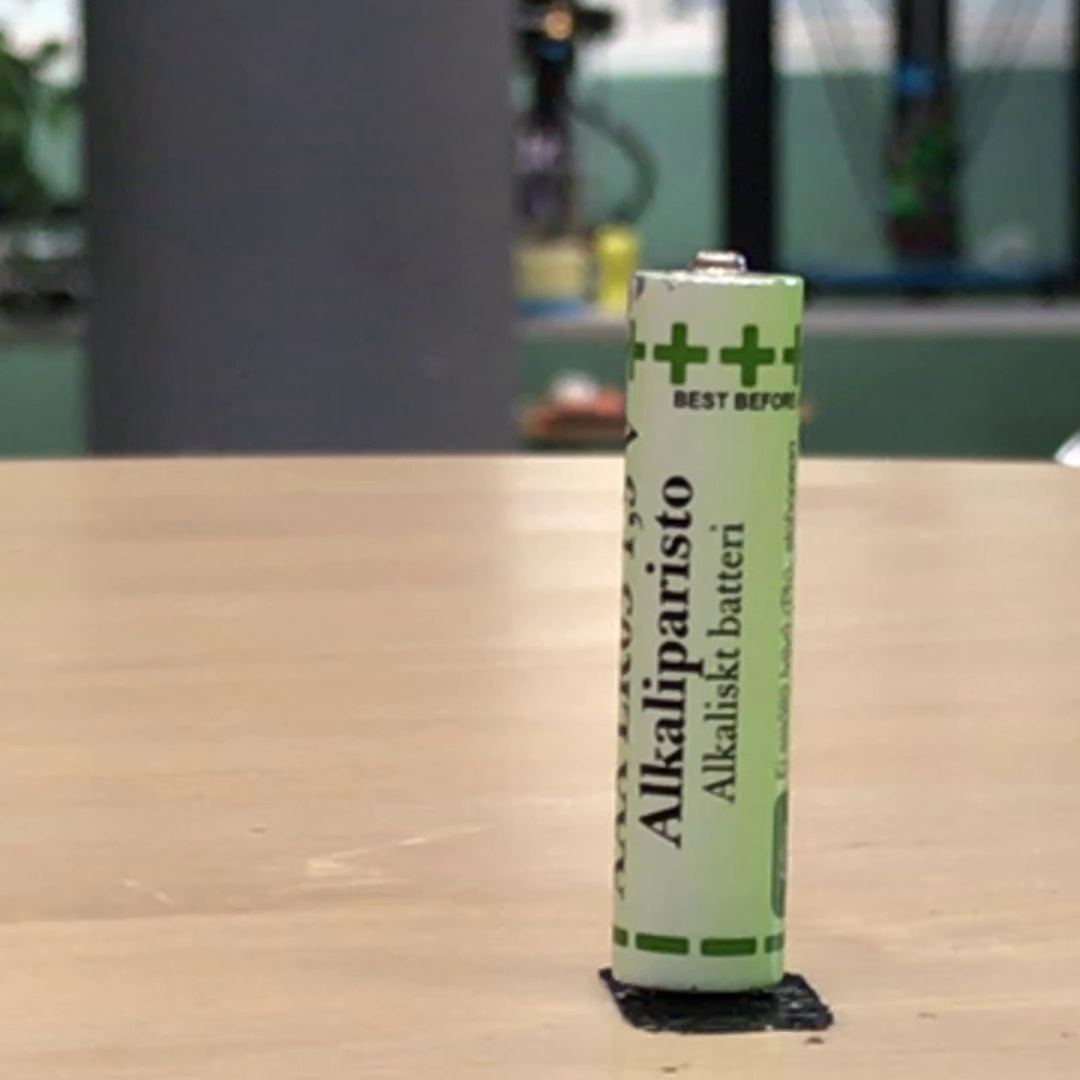keyword: (629, 772, 693, 858)
